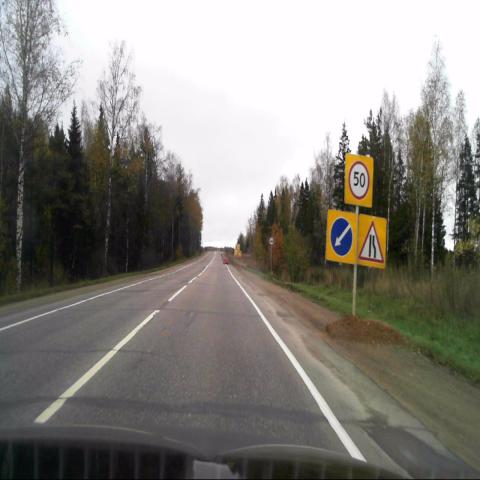1_20_2: (357, 214, 386, 268)
4_2_2: (324, 210, 356, 263)
